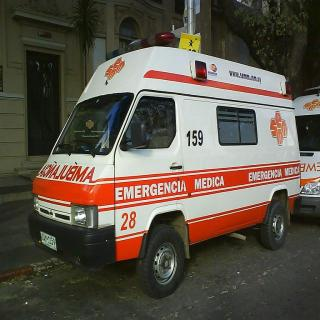Ambulance: (30, 31, 304, 295)
